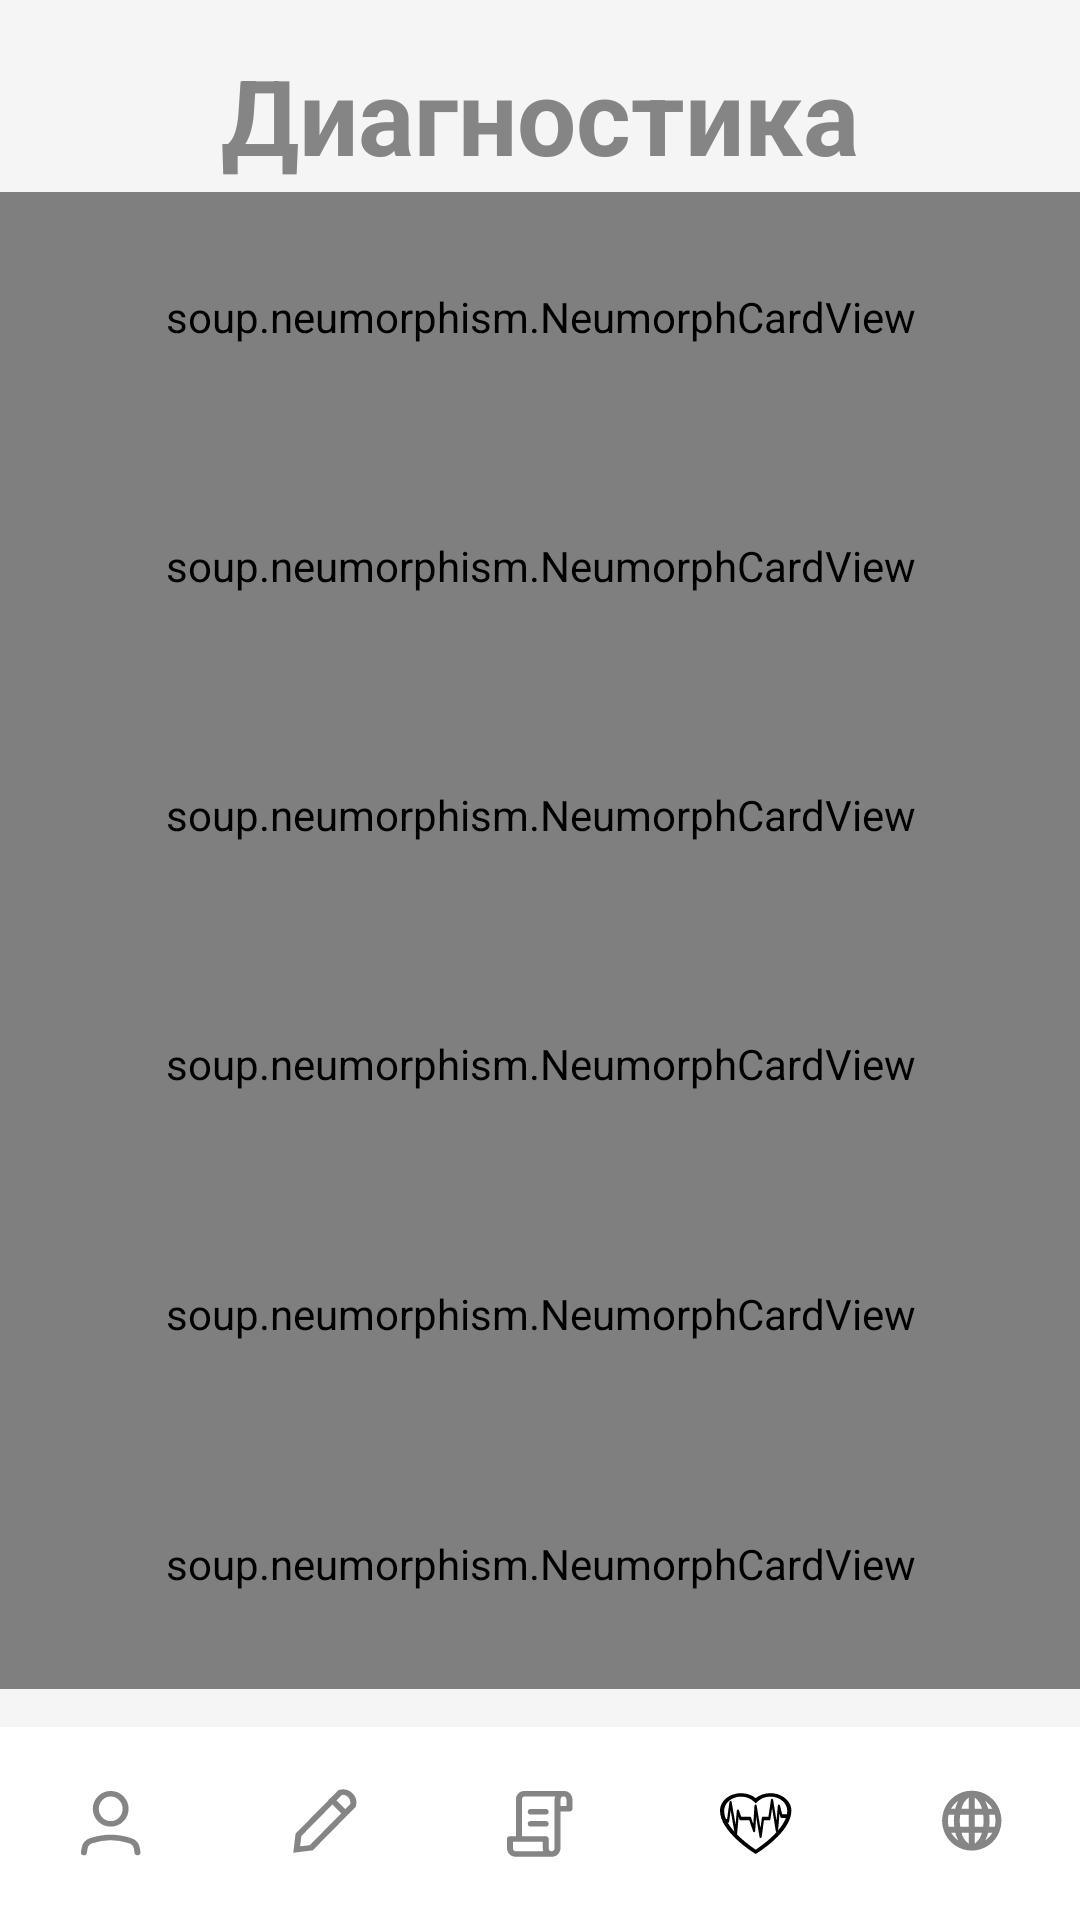

Locate icon controls on the screen. Image size 1080w x 1920h, boxes as {"x1": x1, "y1": y1, "x2": x2, "y2": y2}.
edit: {"x1": 293, "y1": 1789, "x2": 357, "y2": 1853}
heart: {"x1": 720, "y1": 1793, "x2": 792, "y2": 1854}
profile: {"x1": 81, "y1": 1791, "x2": 141, "y2": 1856}
scroll: {"x1": 507, "y1": 1791, "x2": 573, "y2": 1857}
